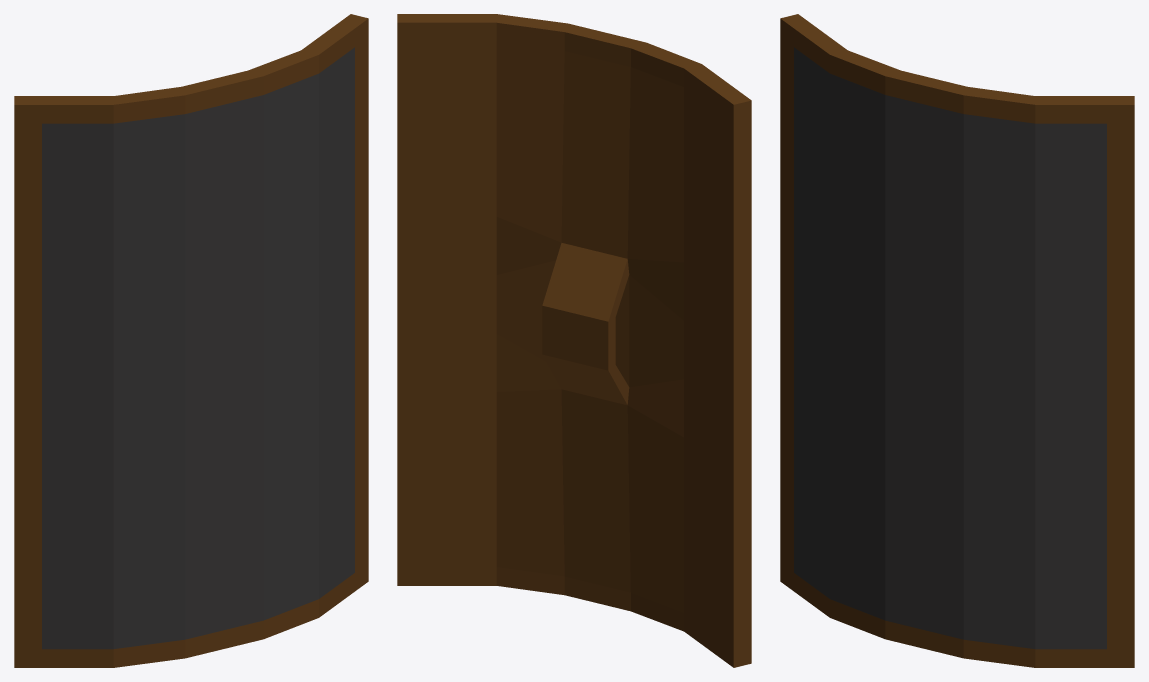
The model's file is IronSquareShield.glb.
3 renders of one model, left to right at view 1: azimuth 30°, elevation 25°; view 2: azimuth 150°, elevation 25°; view 3: azimuth 330°, elevation 25°, orthographic.
Parts seen in each view (by area): view 1: SqShield; view 2: SqShield; view 3: SqShield.
Part boxes in pixels (left/top/right/bottom): SqShield: left=14, top=14, right=368, bottom=667; SqShield: left=397, top=14, right=751, bottom=667; SqShield: left=780, top=14, right=1134, bottom=667.
Size of the model in its own units: 0.3953 by 0.6 by 0.0811.
